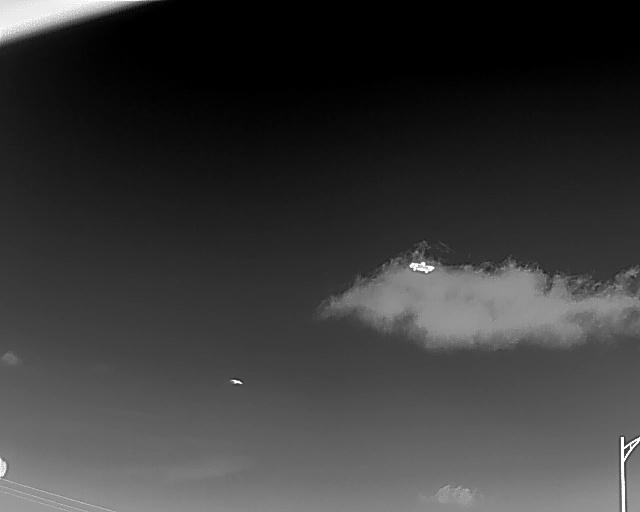fpv-drone: (409, 262, 435, 273)
